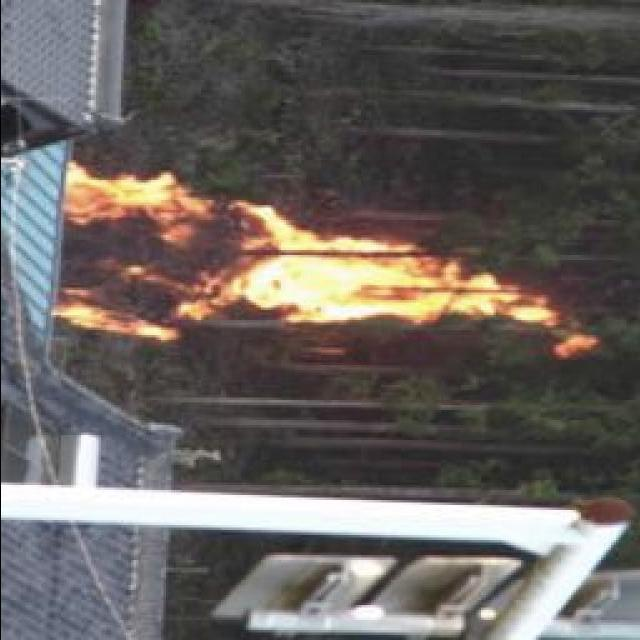Fire: (51, 165, 582, 342)
